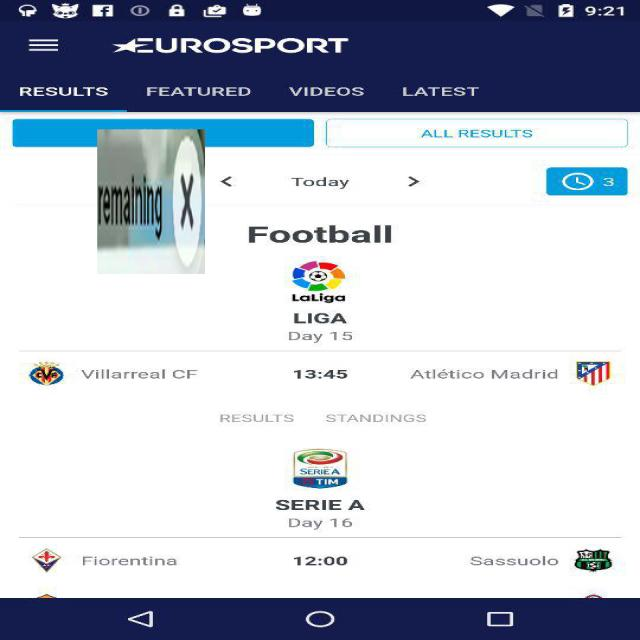misdirection: (97, 129, 205, 274)
